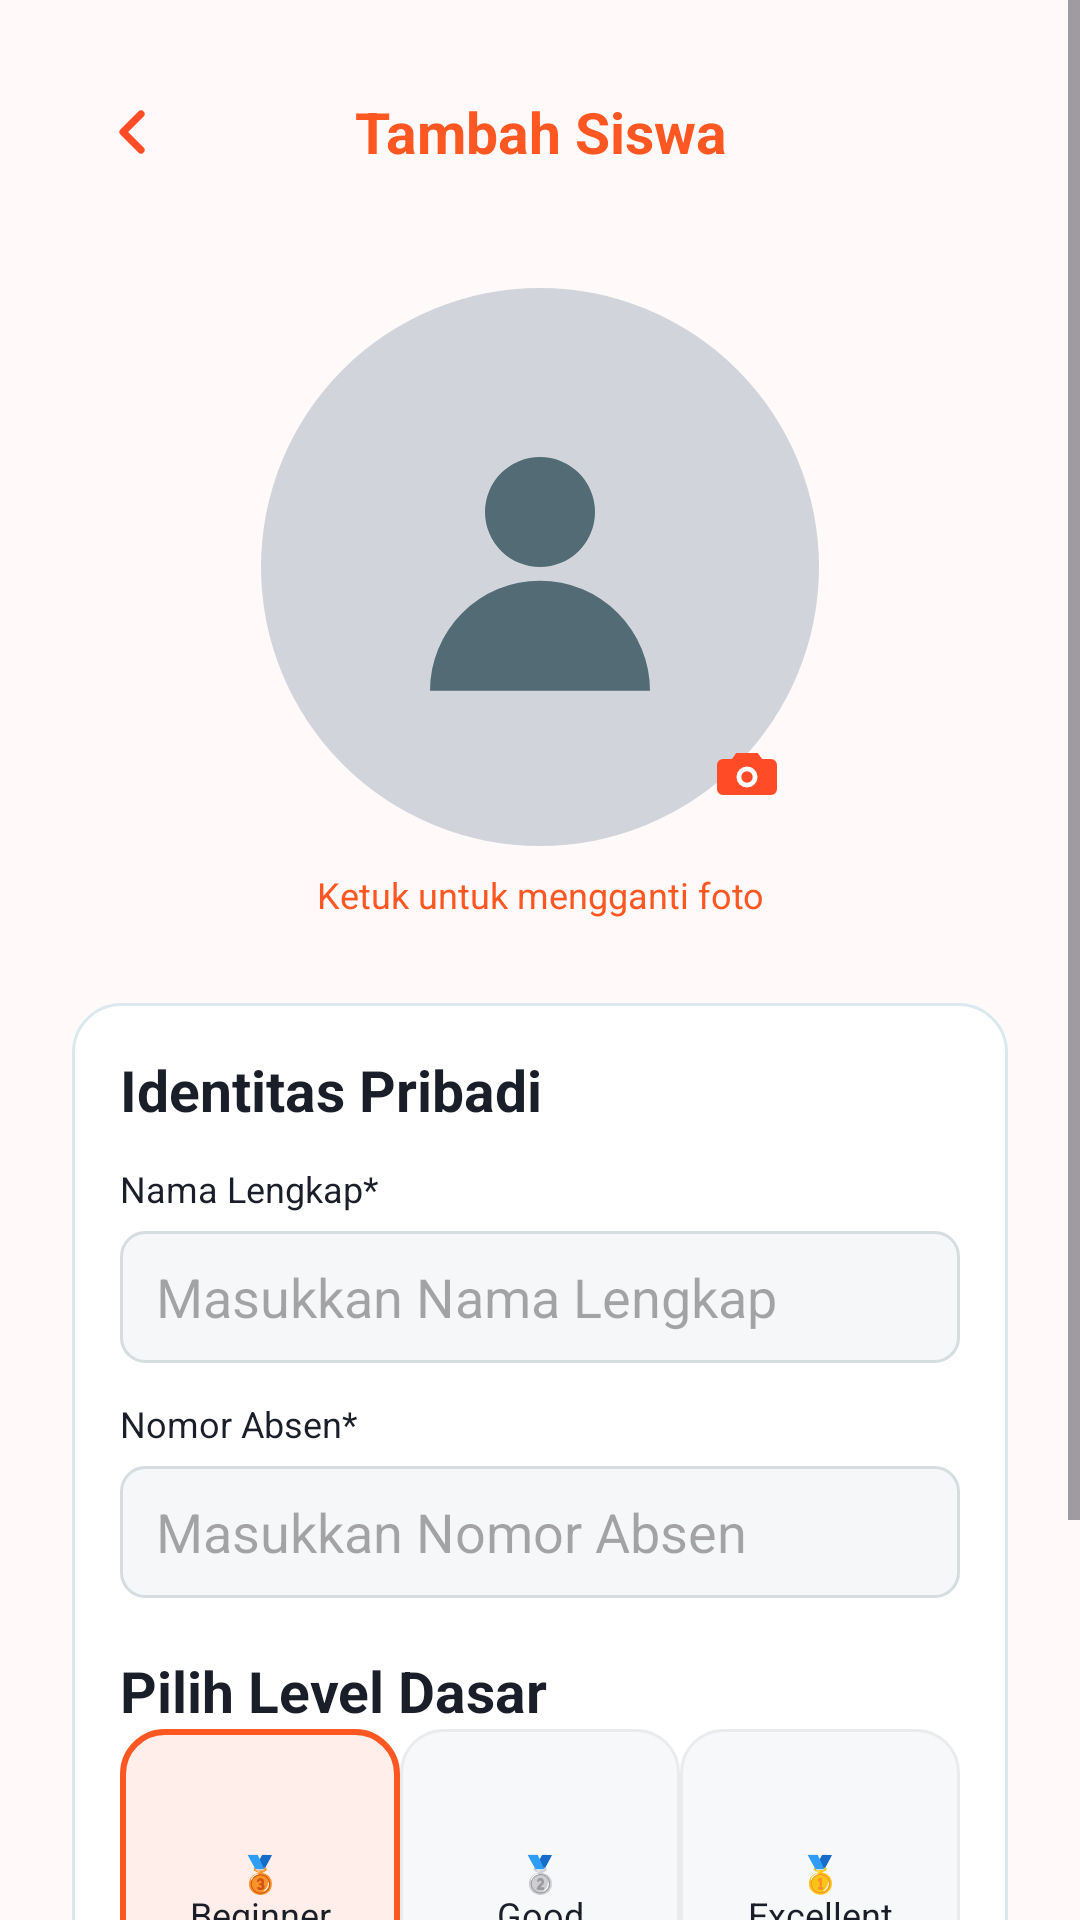

Where icons sit on this 1080 x 1920 app screen, as {"x1": x1, "y1": y1, "x2": x2, "y2": y2}:
Kembali: {"x1": 119, "y1": 110, "x2": 145, "y2": 154}
